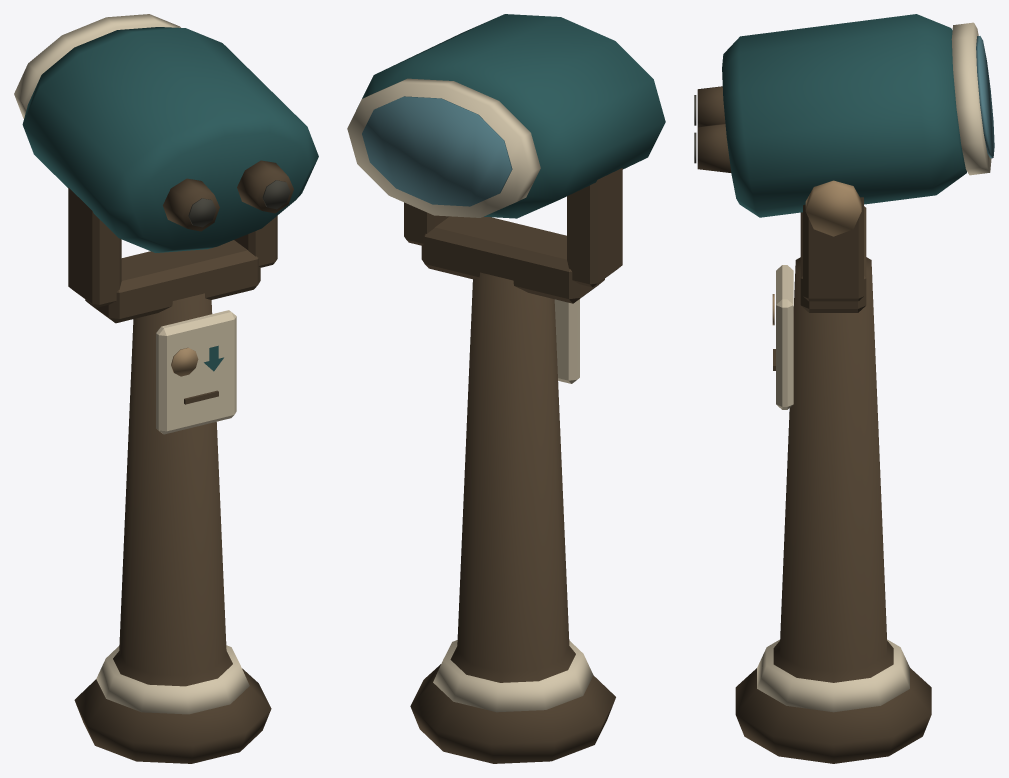
Rendered from lookout_telescope.glb.
3 renders of one model, left to right at view 1: azimuth 30°, elevation 25°; view 2: azimuth 150°, elevation 25°; view 3: azimuth 270°, elevation 25°, orthographic. The views are drawn at different scales.
Visible parts, largest first — view 1: lookout_telescope; view 2: lookout_telescope; view 3: lookout_telescope.
Part boxes in pixels (box(x1,y1,x2,y2)): lookout_telescope: box(14, 14, 318, 763); lookout_telescope: box(347, 14, 665, 763); lookout_telescope: box(694, 14, 994, 763).
Size of the model in its own units: 0.5562 by 1.63 by 0.6403.
